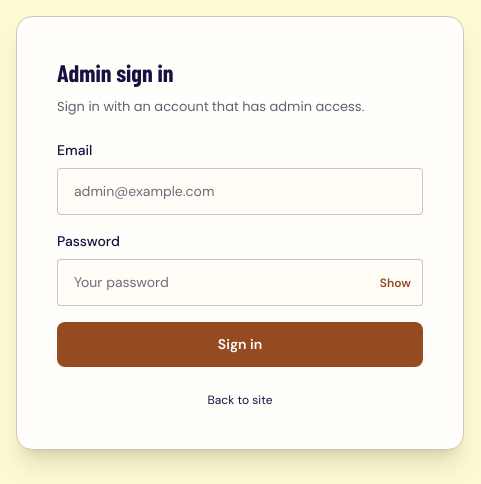
Scenario: Admin login › toggles password visibility without changing the entered value
Later steps or results of the test are not shown.
Step 1. Type "secret123" into the password field labelled "Password" → (240, 283), box [57,259,423,306]
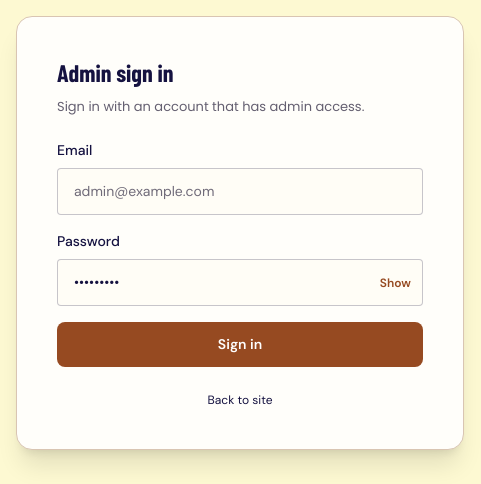
Step 2. Click the button with aria-label "Show password" → (395, 283), box [380,275,411,291]
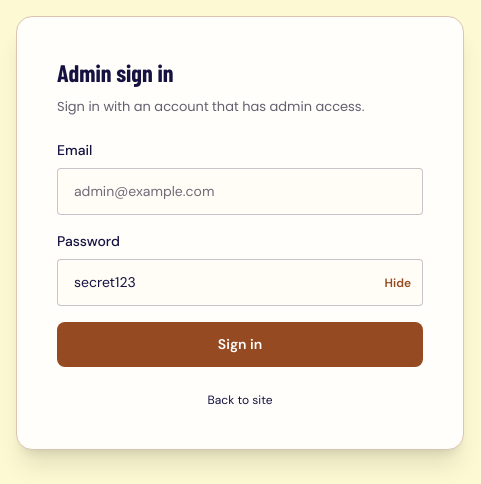
Check: the button with aria-label "Hide password" is pressed, box [384,275,411,291]
